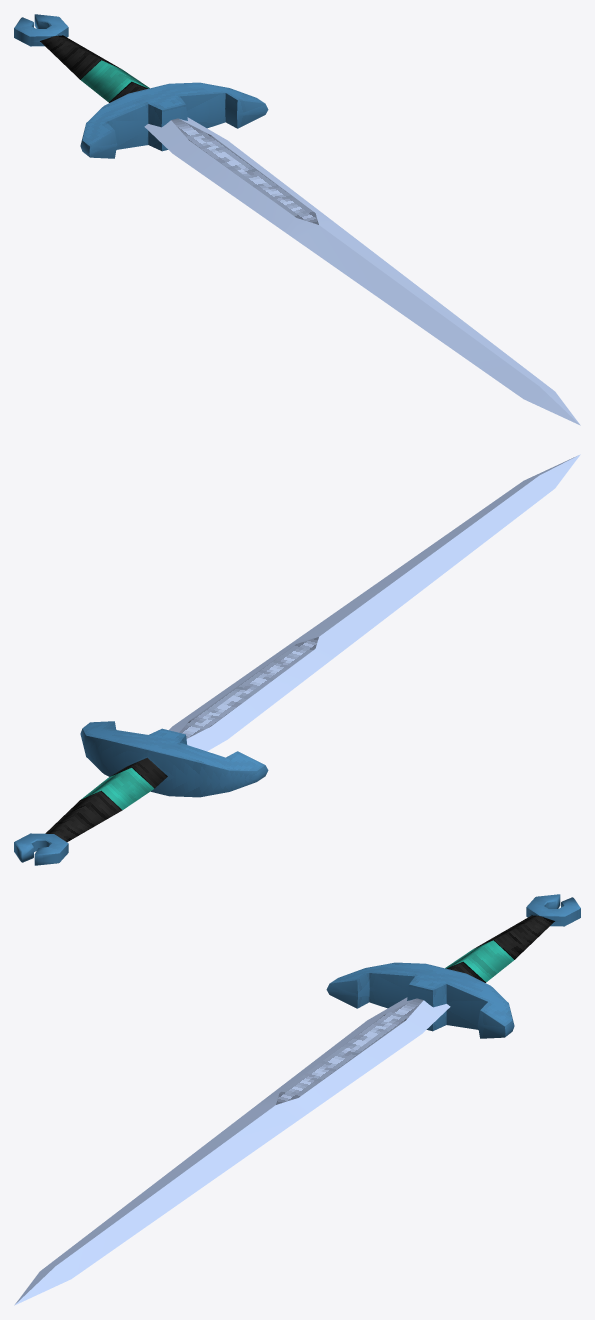
Rendered from sword of godot.glb.
3 views of the same model, one above another, from view 1: azimuth 30°, elevation 25°; view 2: azimuth 150°, elevation 25°; view 3: azimuth 330°, elevation 25° (orthographic).
Parts seen in each view (by area): view 1: sword of godot _final; view 2: sword of godot _final; view 3: sword of godot _final.
Boxes of the visible parts, <box> form: sword of godot _final: <box>14,14,580,425</box>; sword of godot _final: <box>14,454,580,865</box>; sword of godot _final: <box>14,894,580,1305</box>.
Size of the model in its own units: 0.2417 by 0.0529 by 1.29.
1 material, 1 textured.
